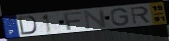1: (42, 13, 53, 34)
D: (18, 15, 38, 36)
F: (63, 11, 84, 32)
G: (110, 7, 131, 26)
N: (83, 8, 108, 30)
R: (130, 6, 153, 26)
